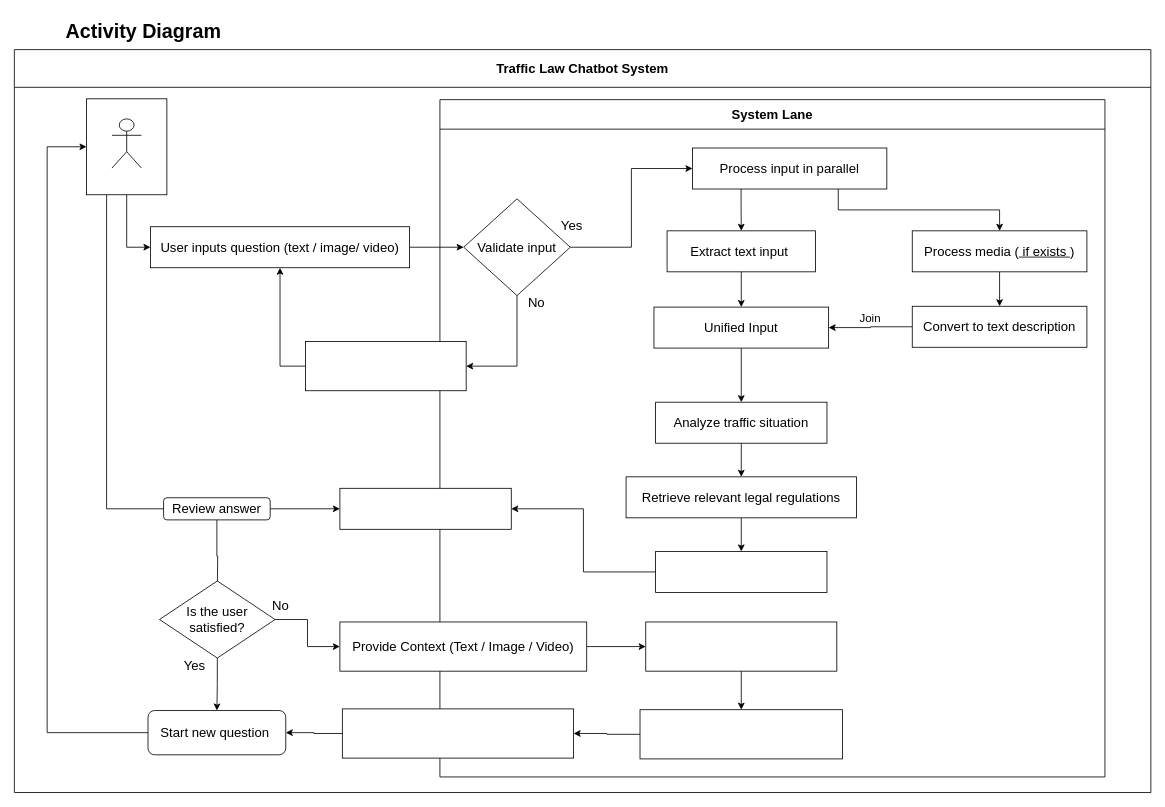
Some shapes in this 1165 by 807 pixel diagram are drawn without their labels. The centre of each missing label's shape, as x and y in pixels:
Display answer: the point at 425,508
Generate legal explanation: the point at 741,571
Present answer with legal explanation and legal source and visual aids: the point at 458,733
Re-analyze traffic situation: the point at 741,734
Return validation error: the point at 385,366
System receives additional information: the point at 741,646
User: the point at 126,143
